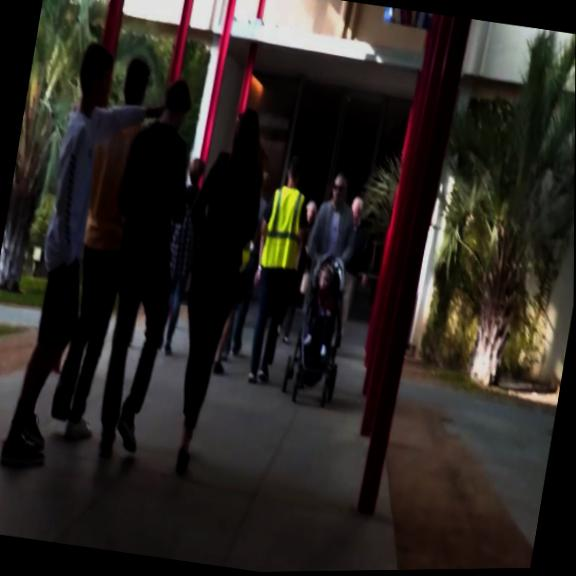safety_vest: (259, 182, 310, 274)
